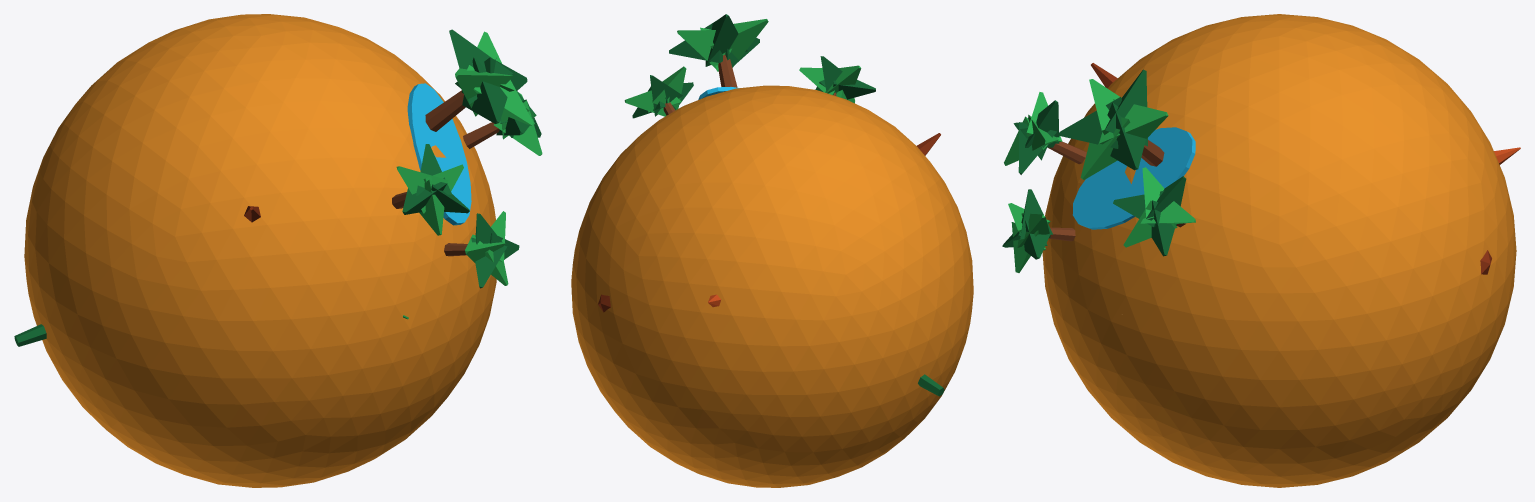
Rendered from Desert_07.fbx.
The picture shows the model from 3 angles, left to right: view 1: azimuth 30°, elevation 25°; view 2: azimuth 150°, elevation 25°; view 3: azimuth 270°, elevation 25°; orthographic projection. The views are drawn at different scales.
Visible parts, largest first — view 1: Desert_07; view 2: Desert_07; view 3: Desert_07.
Boxes of the visible parts, bbox=[...] form: Desert_07: bbox=[14, 14, 542, 487]; Desert_07: bbox=[571, 14, 973, 487]; Desert_07: bbox=[1002, 14, 1520, 487].
Bounding box in the file's own units: 6.5 × 6.37 × 6.56.
1 material, 1 textured.
